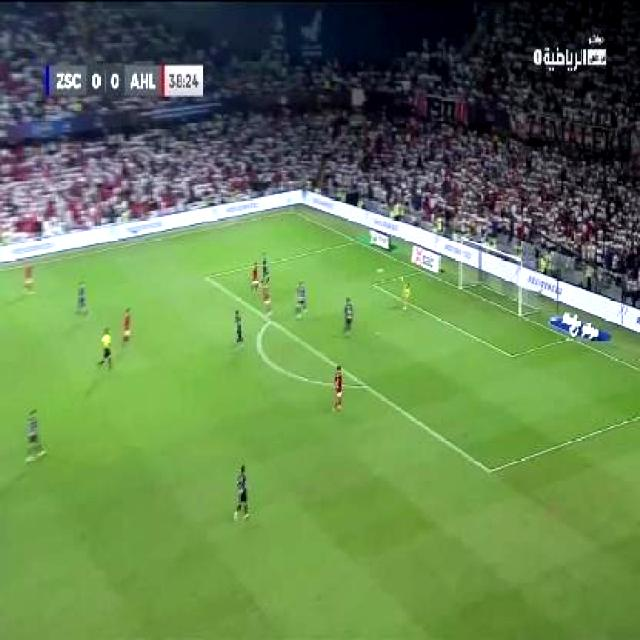bigarea_bottom_inner: (481, 458, 497, 480)
bigarea_top_inner: (198, 268, 212, 284)
bigarea_top_outter: (351, 234, 363, 246)
bottom_arc_area_intersection: (358, 375, 372, 394)
corner: (283, 206, 303, 219)
smallarea_bottom_inner: (503, 344, 519, 364)
smallarea_bottom_outter: (563, 329, 575, 343)
smallarea_top_inner: (368, 277, 378, 289)
smallarea_top_outter: (414, 263, 428, 277)
top_arc_area_intersection: (262, 310, 276, 328)
